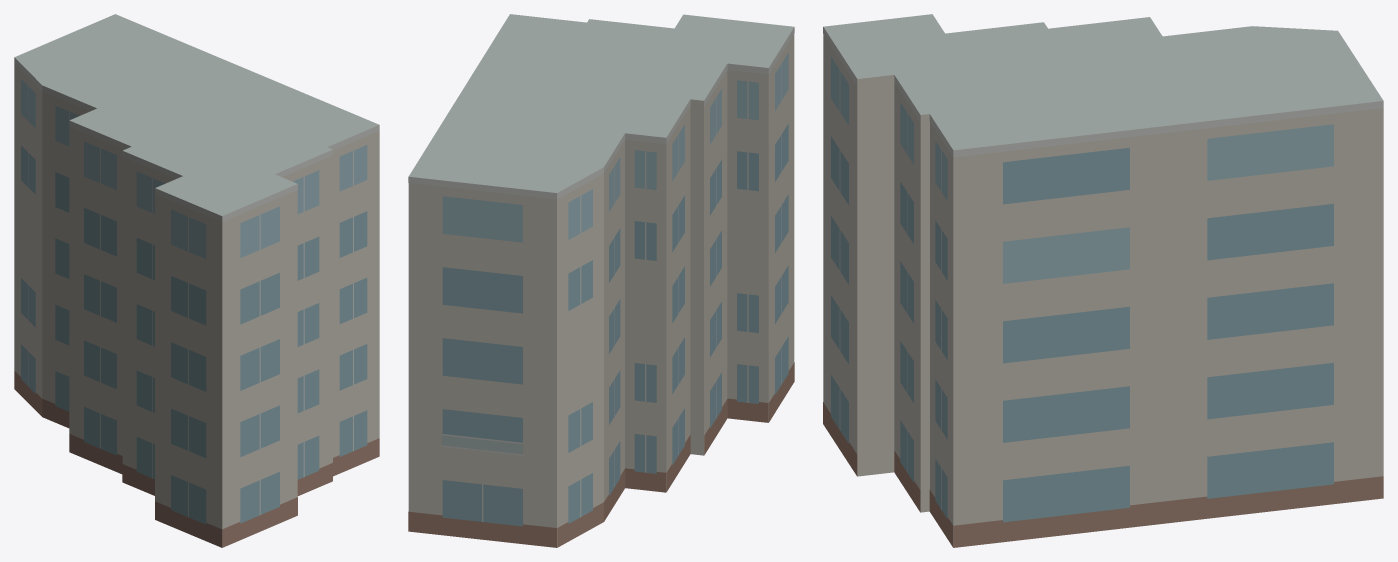
File: survey-upis-32948240.glb
The picture shows the model from 3 angles, left to right: view 1: azimuth 30°, elevation 25°; view 2: azimuth 150°, elevation 25°; view 3: azimuth 270°, elevation 25°; orthographic projection. The views are drawn at different scales.
Parts seen in each view (by area): view 1: survey-upis-32948240.tmp; view 2: survey-upis-32948240.tmp; view 3: survey-upis-32948240.tmp.
Boxes of the visible parts, bbox=[...] form: survey-upis-32948240.tmp: bbox=[14, 14, 379, 547]; survey-upis-32948240.tmp: bbox=[408, 14, 794, 547]; survey-upis-32948240.tmp: bbox=[823, 14, 1383, 547].
Size of the model in its own units: 10.09 by 13.7 by 17.52.
